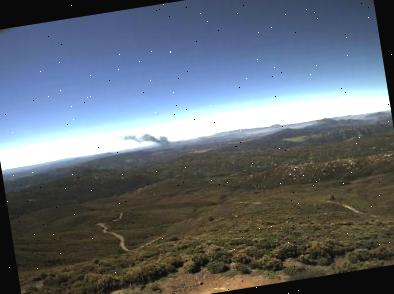smoke: (115, 125, 173, 155)
